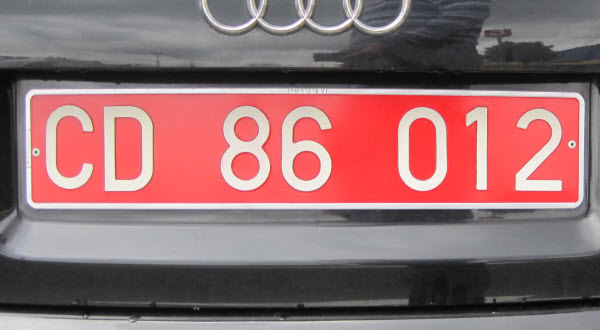license_plate: (27, 89, 584, 210)
